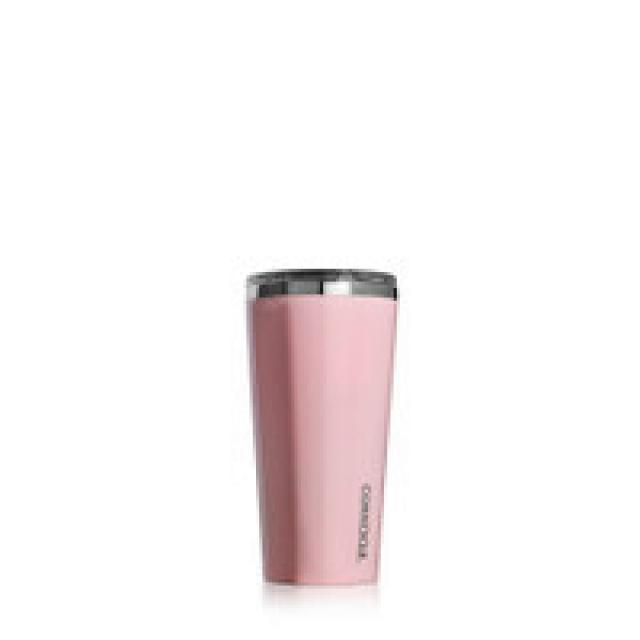bottle: (249, 270, 399, 588)
